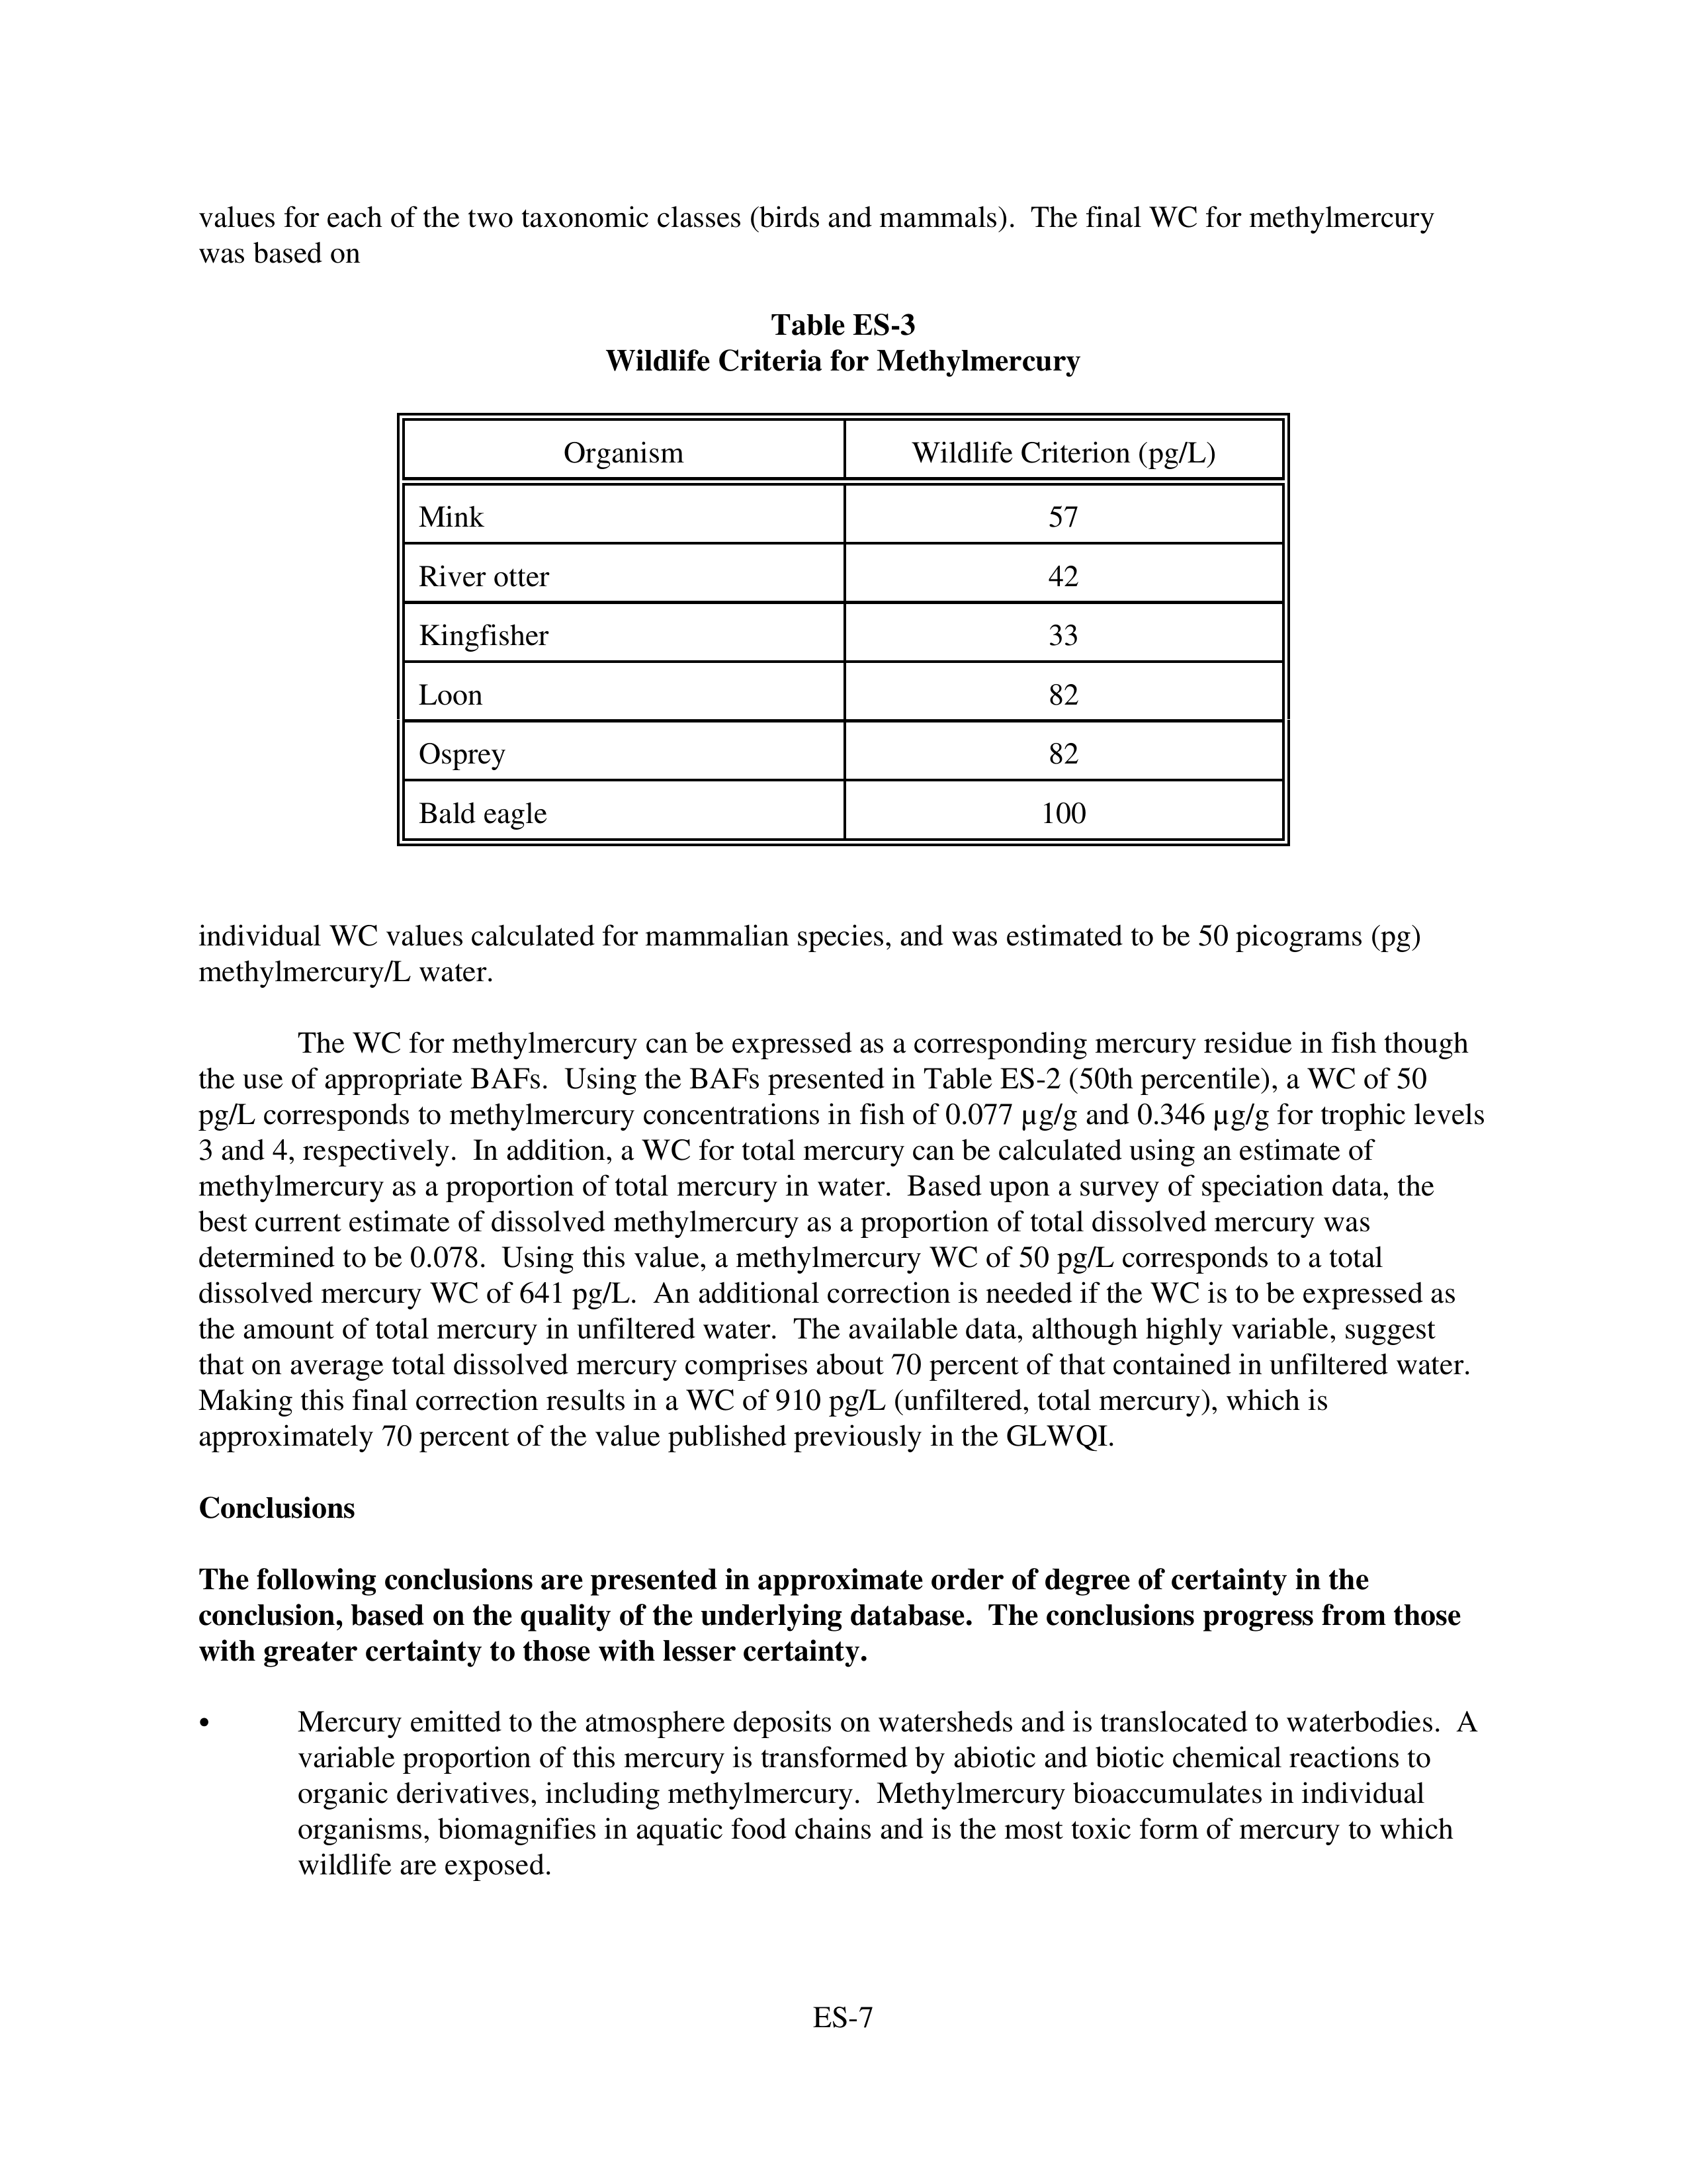table: (395, 411, 1292, 850)
